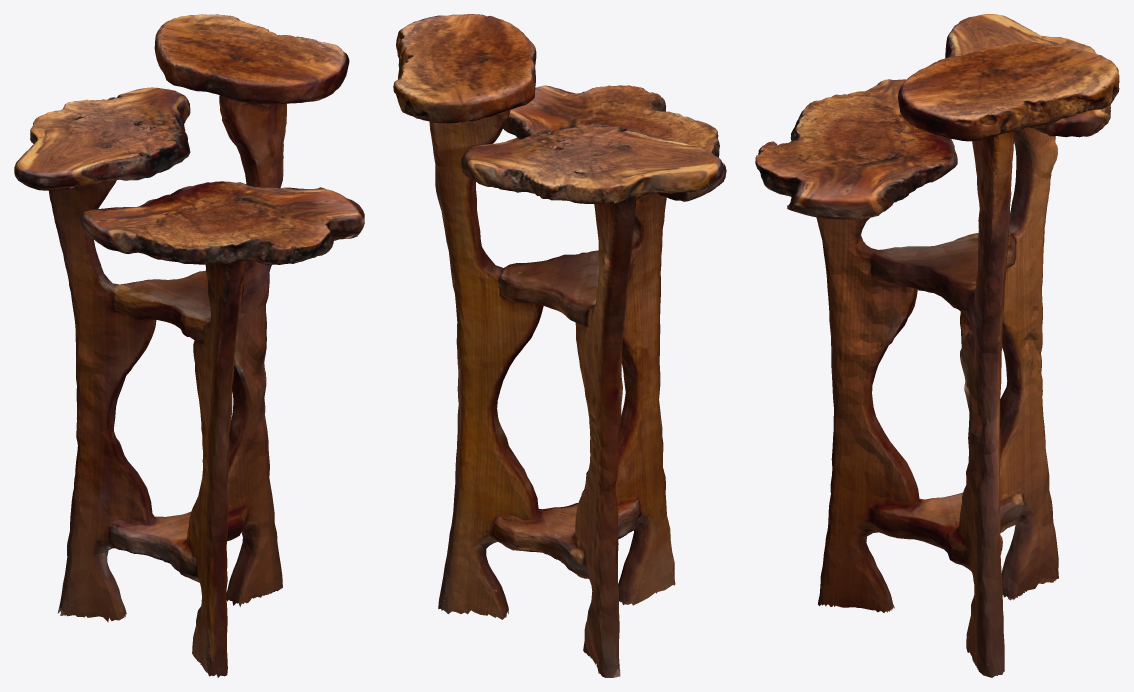
Rendered from plant_stand_c.glb.
The picture shows the model from 3 angles, left to right: view 1: azimuth 30°, elevation 25°; view 2: azimuth 150°, elevation 25°; view 3: azimuth 270°, elevation 25°; orthographic projection. The views are drawn at different scales.
Visible parts, largest first — view 1: Mesh_0; view 2: Mesh_0; view 3: Mesh_0.
Boxes of the visible parts, <box> form: Mesh_0: <box>14,14,364,677</box>; Mesh_0: <box>393,14,726,677</box>; Mesh_0: <box>755,14,1119,677</box>.
Bounding box in the file's own units: 0.5472 × 0.9 × 0.5051.
Materials: 1 (1 with a texture image).
